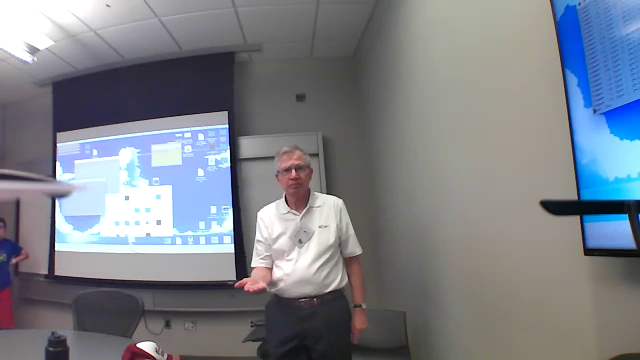land: (230, 269, 277, 297)
